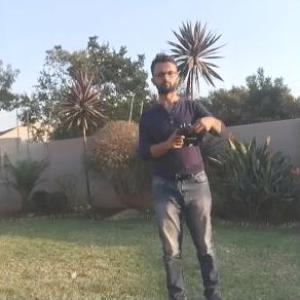follow: (135, 48, 236, 299)
